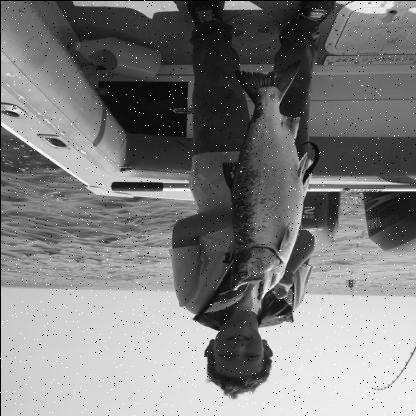fish: (222, 56, 306, 300)
